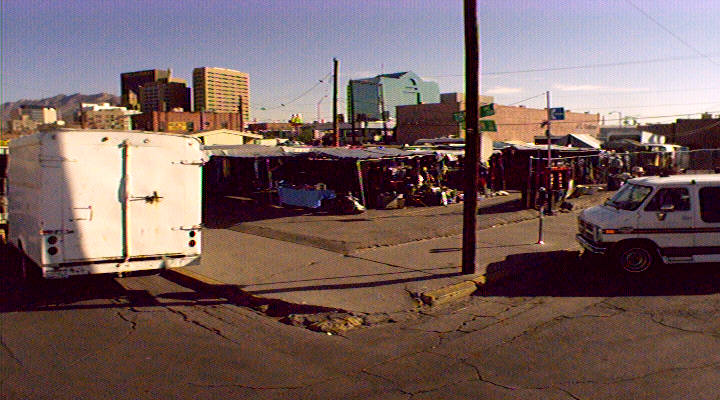Ramp: (332, 279, 441, 336)
